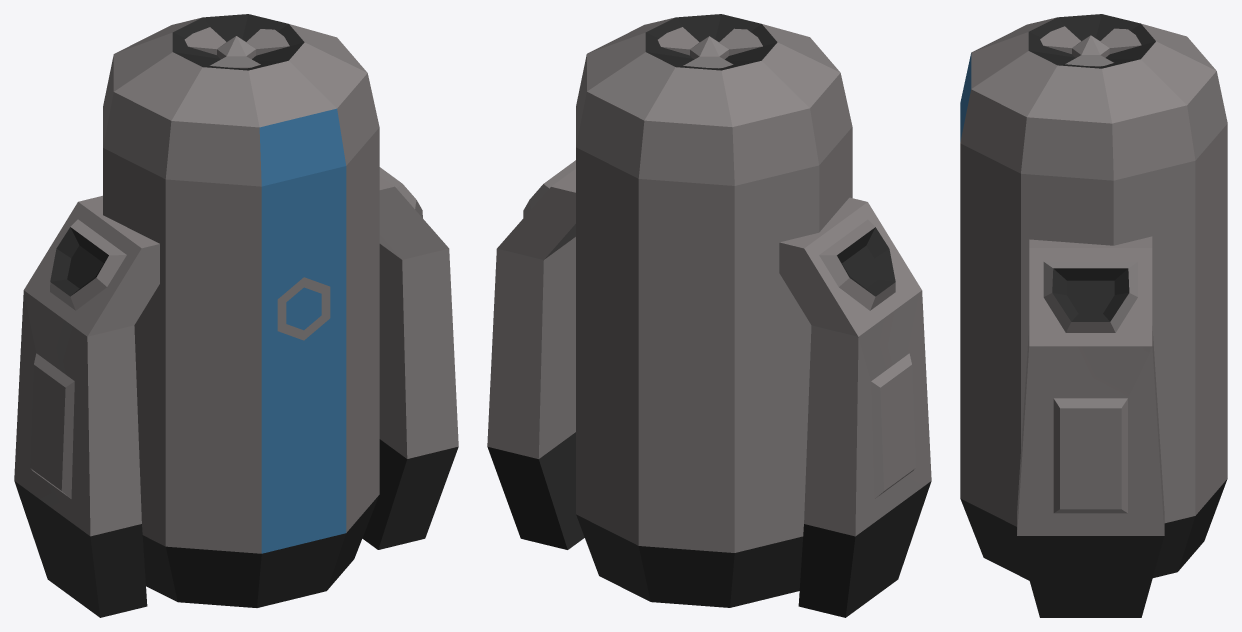
File: scifi_scifi-oxygen-generator.fbx
3 renders of one model, left to right at view 1: azimuth 30°, elevation 25°; view 2: azimuth 150°, elevation 25°; view 3: azimuth 270°, elevation 25°, orthographic. The views are drawn at different scales.
Parts seen in each view (by area): view 1: scifi_scifi_oxygen_generator; view 2: scifi_scifi_oxygen_generator; view 3: scifi_scifi_oxygen_generator.
Part boxes in pixels (box(x1,y1,x2,y2)): scifi_scifi_oxygen_generator: box(14, 14, 458, 617); scifi_scifi_oxygen_generator: box(487, 14, 931, 617); scifi_scifi_oxygen_generator: box(960, 14, 1227, 617).
Bounding box in the file's own units: 152 × 200 × 95.81.
